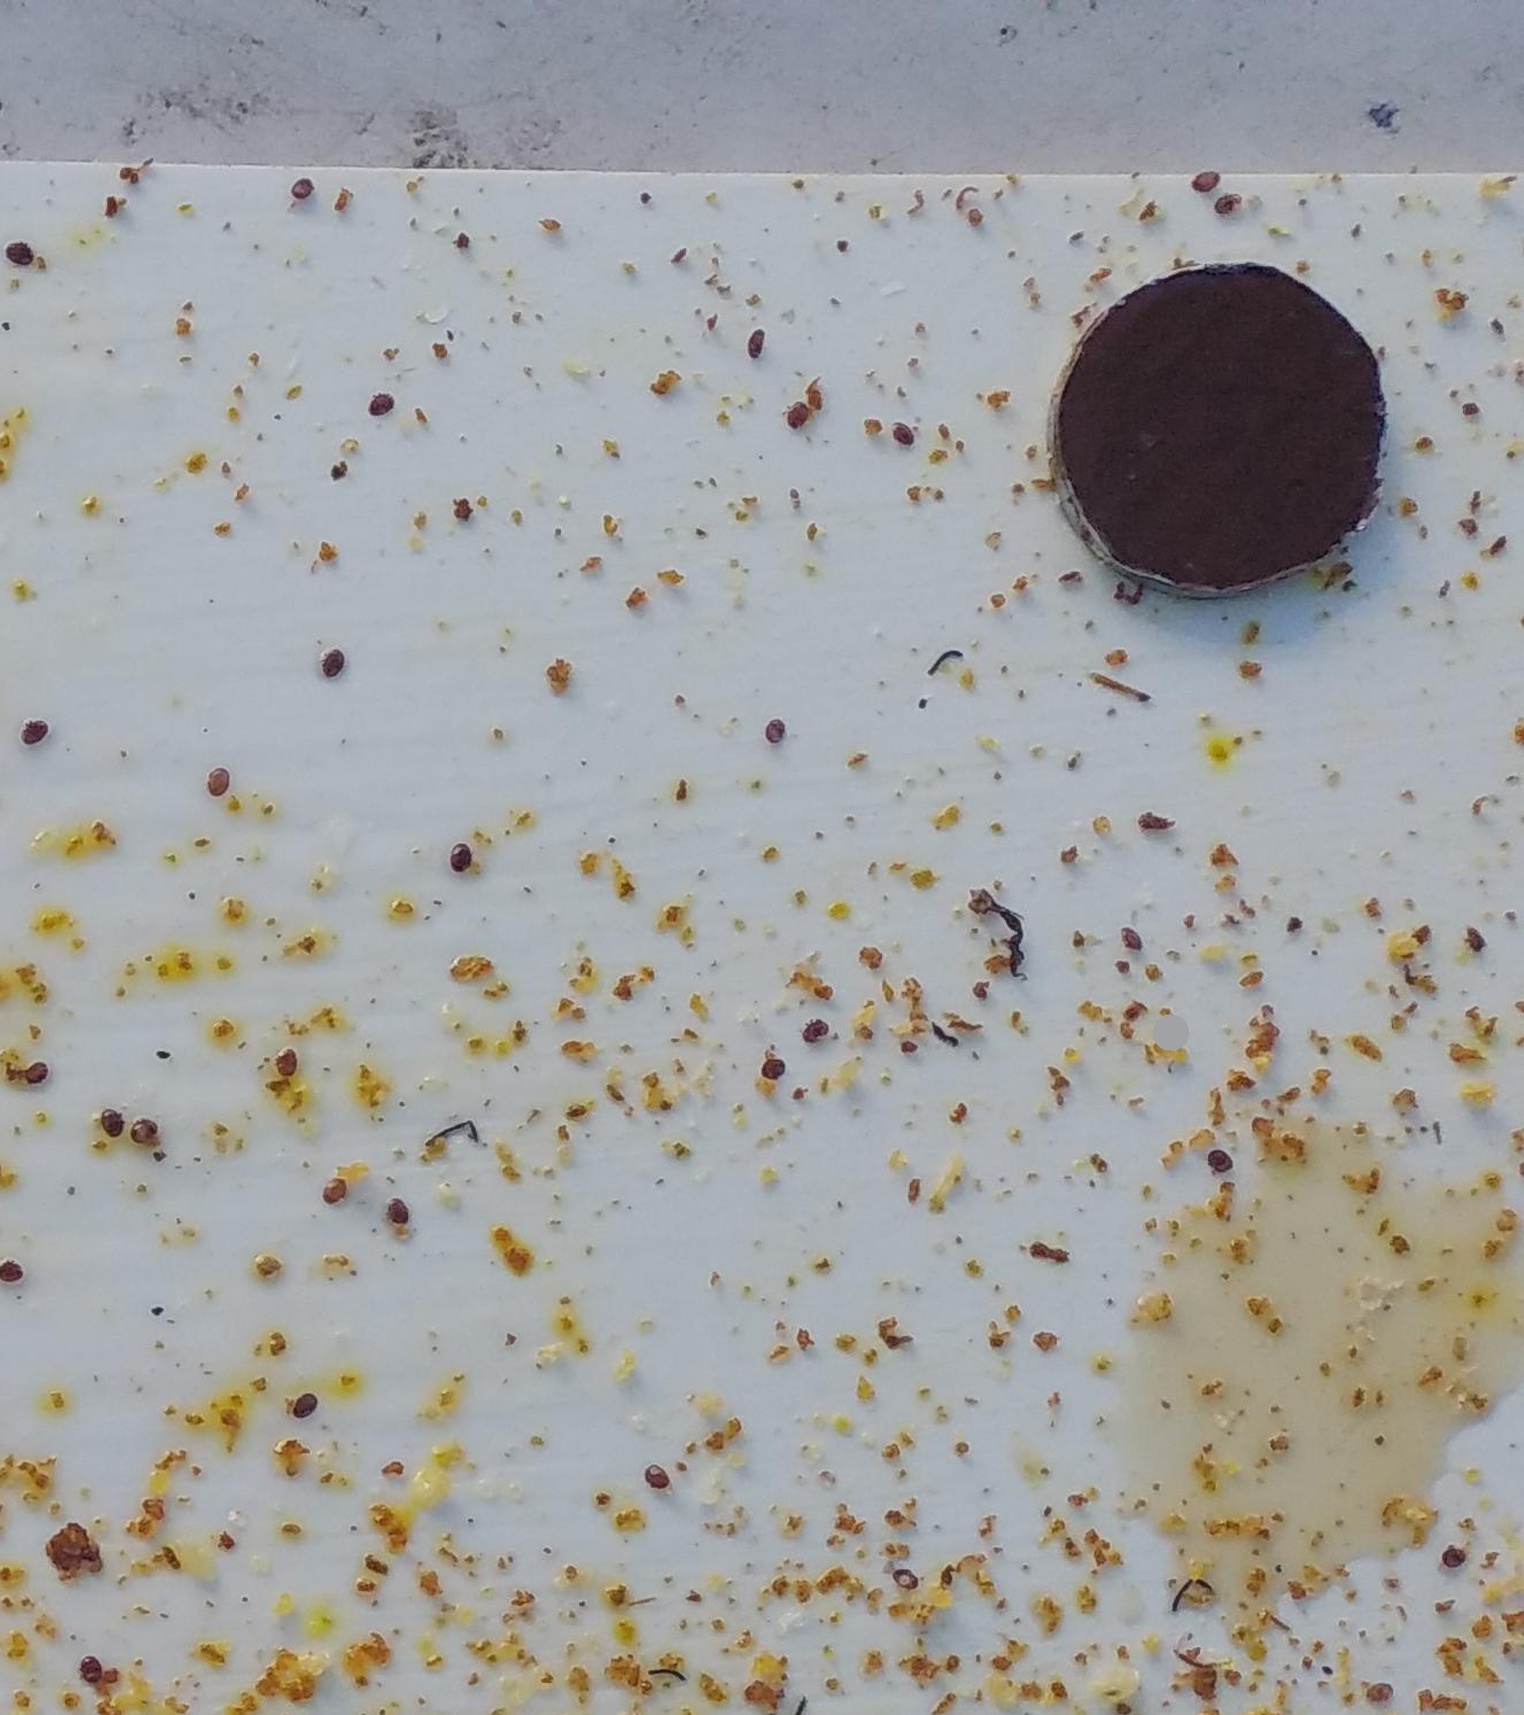Varroa: (1186, 160, 1227, 202), (884, 1556, 925, 1597), (199, 765, 238, 802), (319, 646, 357, 682), (288, 1394, 322, 1433), (284, 179, 316, 216), (1192, 171, 1225, 204), (18, 715, 50, 749), (744, 329, 775, 362), (4, 234, 35, 266), (794, 1013, 825, 1046), (21, 1058, 51, 1088), (387, 1202, 416, 1234), (1206, 1144, 1236, 1175), (761, 710, 790, 741), (76, 1650, 106, 1681), (97, 1105, 127, 1135), (1209, 188, 1239, 219), (889, 424, 915, 457), (446, 840, 475, 869), (321, 1177, 349, 1208), (644, 1463, 672, 1493), (1117, 930, 1146, 958), (274, 1050, 302, 1078), (371, 391, 399, 419), (1368, 1680, 1395, 1708), (761, 1055, 787, 1083), (113, 1116, 141, 1143), (1434, 1541, 1462, 1566), (132, 1121, 157, 1146), (788, 410, 813, 434)
